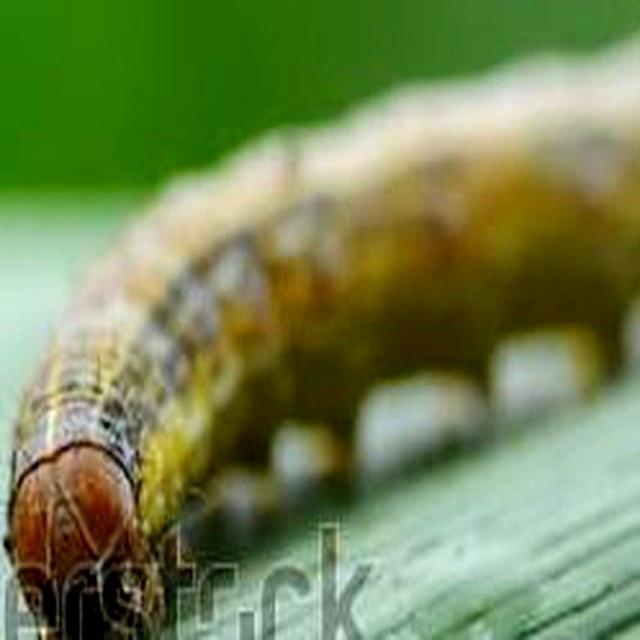Plaga: (1, 15, 640, 640)
